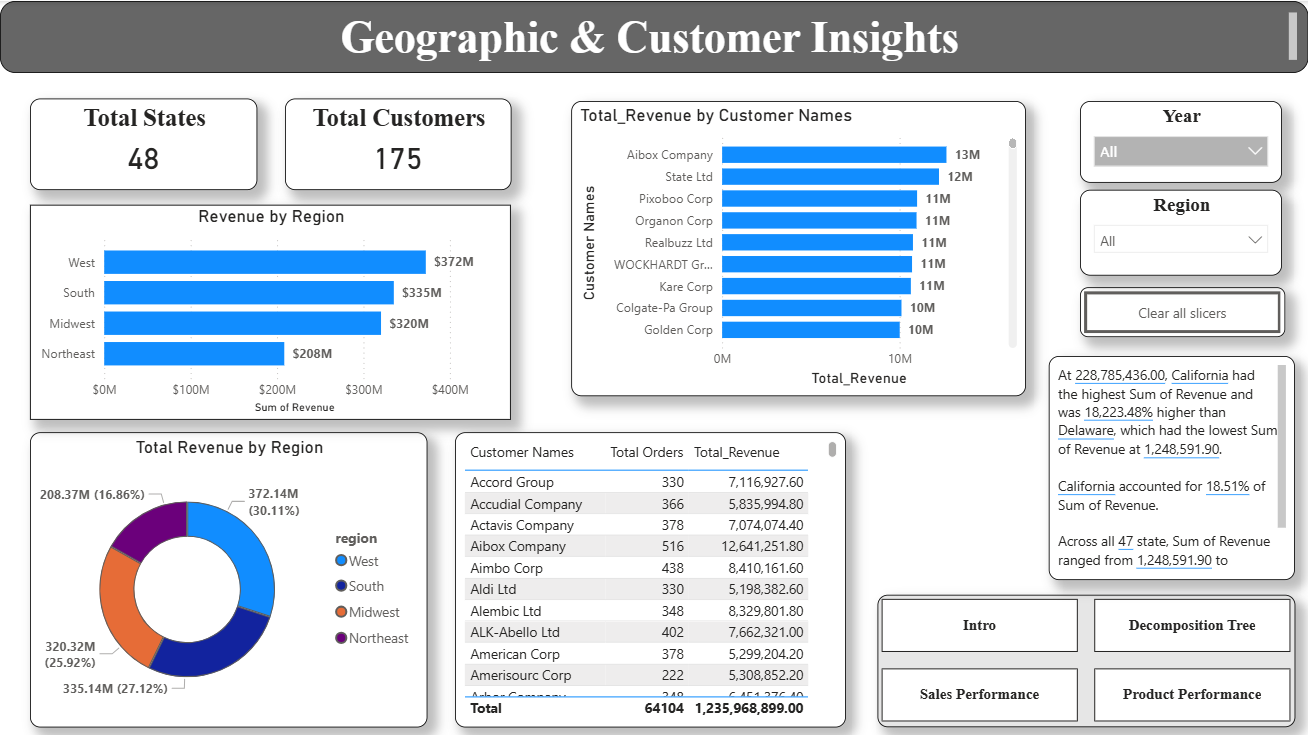

The page's visual inventory and layout, read from the dashboard file:
{"tool":"powerbi","page":{"name":"Customer & Channel Analysis","canvas":[1280,720],"ordinal":4},"visuals":[{"type":"textbox","box":[0,0,1280,70],"z":0},{"type":"pageNavigator","box":[953.1,529.6,313.7,181],"z":1000},{"type":"card","title":"Total Customers","fields":{"Values":["Customer_Data.Total_Customer"]},"box":[270.2,85.7,220.8,89.3],"z":2000},{"type":"slicer","title":"Year","fields":{"Values":["Sales_Data.OrderDate.Variation.Date Hierarchy.Year"]},"box":[980.8,85.7,196.6,84.5],"z":3000},{"type":"slicer","title":"Region","fields":{"Values":["Regions.region"]},"box":[766.1,85.7,196.6,84.5],"z":4000},{"type":"actionButton","box":[1188.3,94.1,78.4,73.6],"z":5000},{"type":"card","title":"Total States","fields":{"Values":["Regions.Total States"]},"box":[30.6,85.6,222.6,89.3],"z":6000},{"type":"clusteredBarChart","title":"Orders by Customer","fields":{"Category":["Customer_Data.Customer Names"],"Y":["Sum(Sales_Data.Order Quantity)"]},"box":[18.3,182.2,495.2,229.9],"z":7000},{"type":"tableEx","fields":{"Values":["Customer_Data.Customer Names","Measure.Total Orders","Measure.Total_Revenue"]},"box":[530.8,430.7,378.8,279.9],"z":8000},{"type":"clusteredBarChart","fields":{"Category":["Customer_Data.Customer Names"],"Y":["Measure.Total_Revenue"]},"box":[18.3,421.9,495.2,288.6],"z":9000},{"type":"pieChart","title":"Revenue by Channel","fields":{"Category":["Sales_Data.Channel"],"Y":["Sum(Sales_Data.Revenue)"]},"box":[530.7,182.2,402.3,239.7],"z":10000},{"type":"card","title":"Revenue per Order","fields":{"Values":["Measure.Revenue per order"]},"box":[513.6,85.6,221.3,89.3],"z":11000},{"type":"textbox","box":[966,190.8,281.3,330.2],"z":12000}]}

Visuals, with their boxes in screenshot pixels (x1, y1, x2, y2), scaled from the page's 1280x720 canvas onto the 1308x735 screenshot:
textbox: [0,0,1307,71]
pageNavigator: [974,541,1295,725]
"Total Customers" card: [276,87,502,179]
"Year" slicer: [1002,87,1203,174]
"Region" slicer: [783,87,984,174]
actionButton: [1214,96,1294,171]
"Total States" card: [31,87,259,179]
"Orders by Customer" clusteredBarChart: [19,186,525,421]
tableEx - Customer_Data.Customer Names x Measure.Total Orders: [542,440,929,725]
clusteredBarChart - Customer_Data.Customer Names x Measure.Total_Revenue: [19,431,525,725]
"Revenue by Channel" pieChart: [542,186,953,431]
"Revenue per Order" card: [525,87,751,179]
textbox: [987,195,1275,532]
